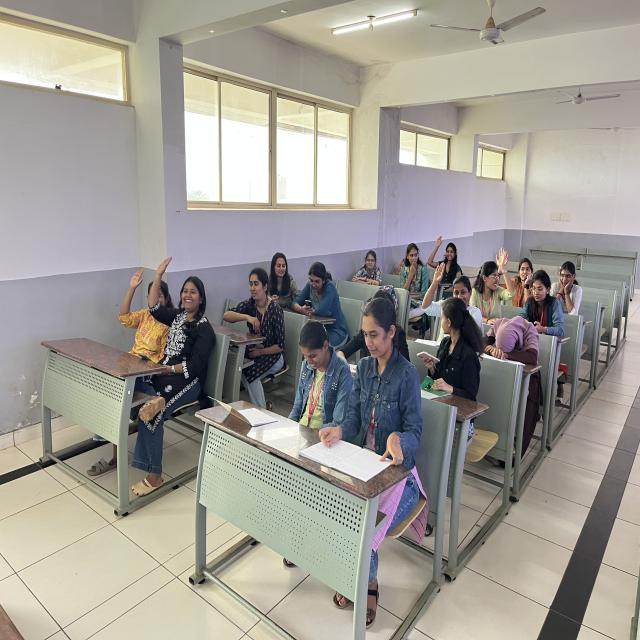Hand Rising: (148, 254, 212, 390), (118, 259, 171, 359), (424, 257, 473, 332), (472, 247, 512, 325), (426, 232, 461, 292)
Sleeping: (478, 313, 550, 387)
Using Phone: (276, 320, 352, 437), (418, 300, 482, 408), (290, 264, 348, 334)
